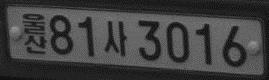0: (165, 20, 189, 63)
1: (194, 22, 213, 66), (76, 16, 95, 58)
3: (136, 19, 161, 61)
6: (221, 24, 248, 67)
8: (48, 13, 75, 55)
사: (103, 19, 128, 58)
울산_V: (22, 11, 48, 56)
